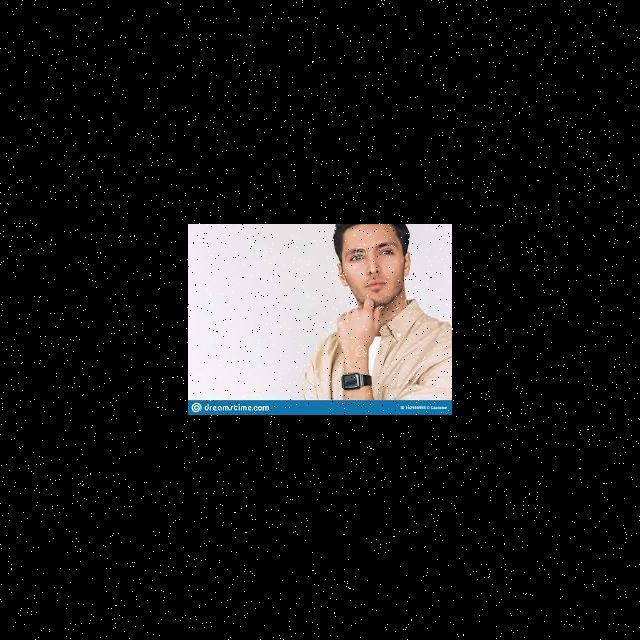watch: (332, 366, 380, 396)
